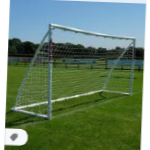goals: (15, 22, 136, 117)
